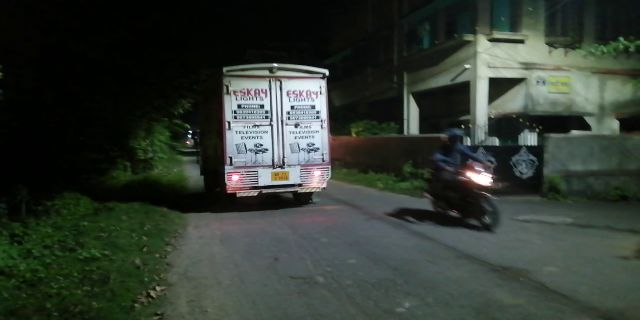Minitruck: (206, 57, 346, 207)
Motorbike: (428, 130, 507, 231)
